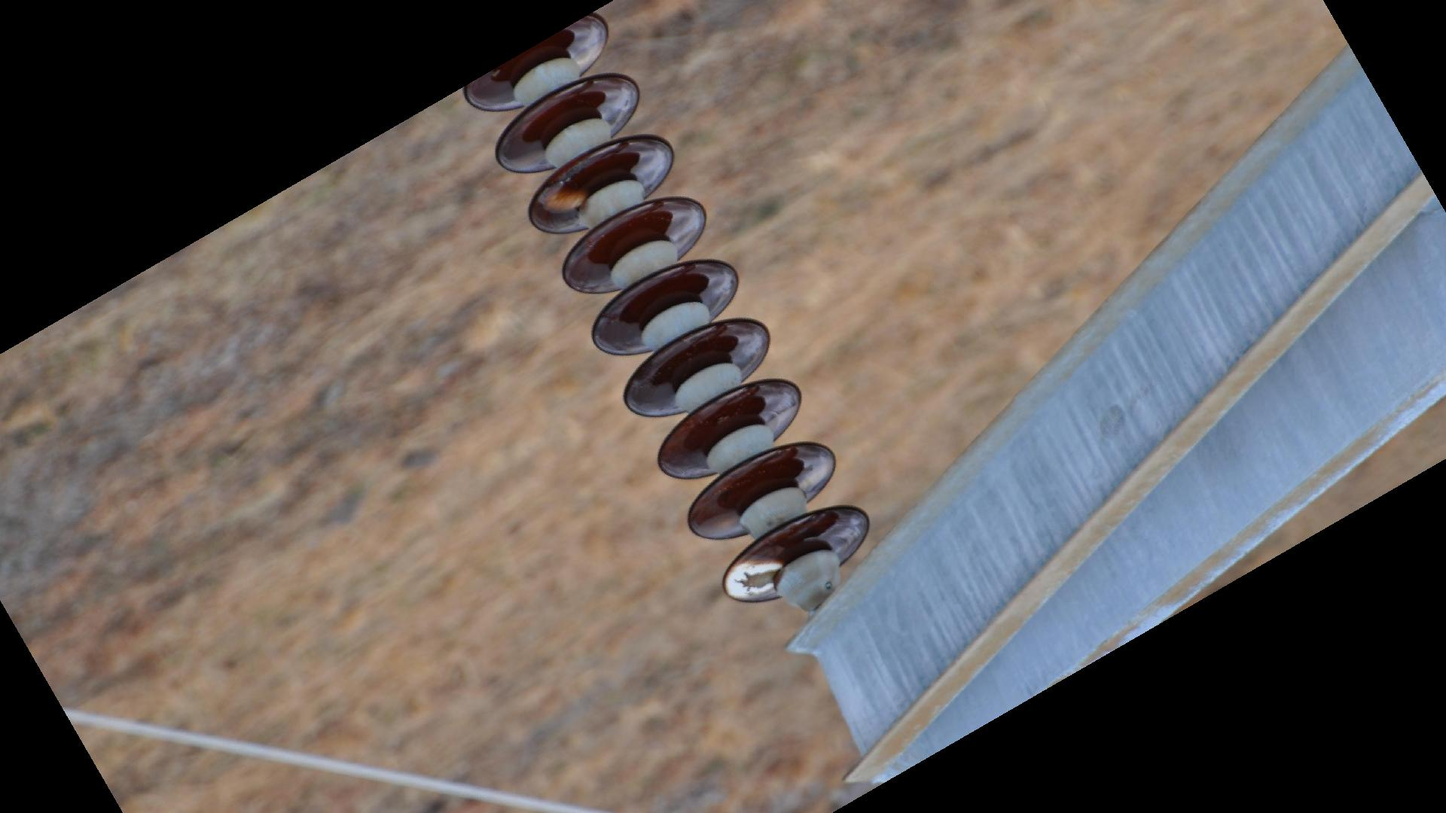insulator: (454, 5, 874, 612)
insulator_flashover: (721, 556, 786, 604), (538, 184, 590, 217)
